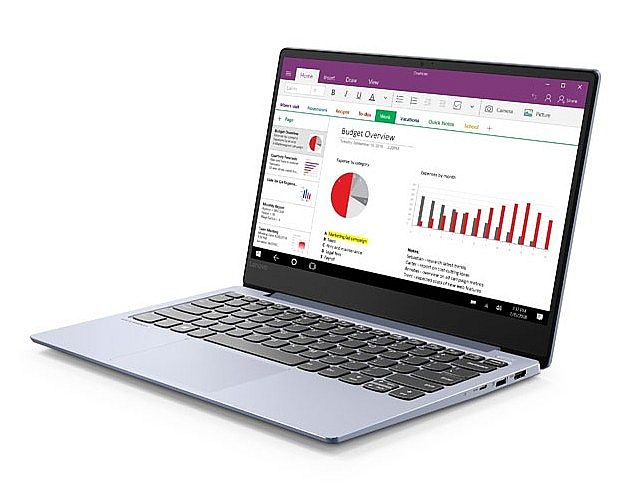Laptop: (23, 39, 612, 450)
